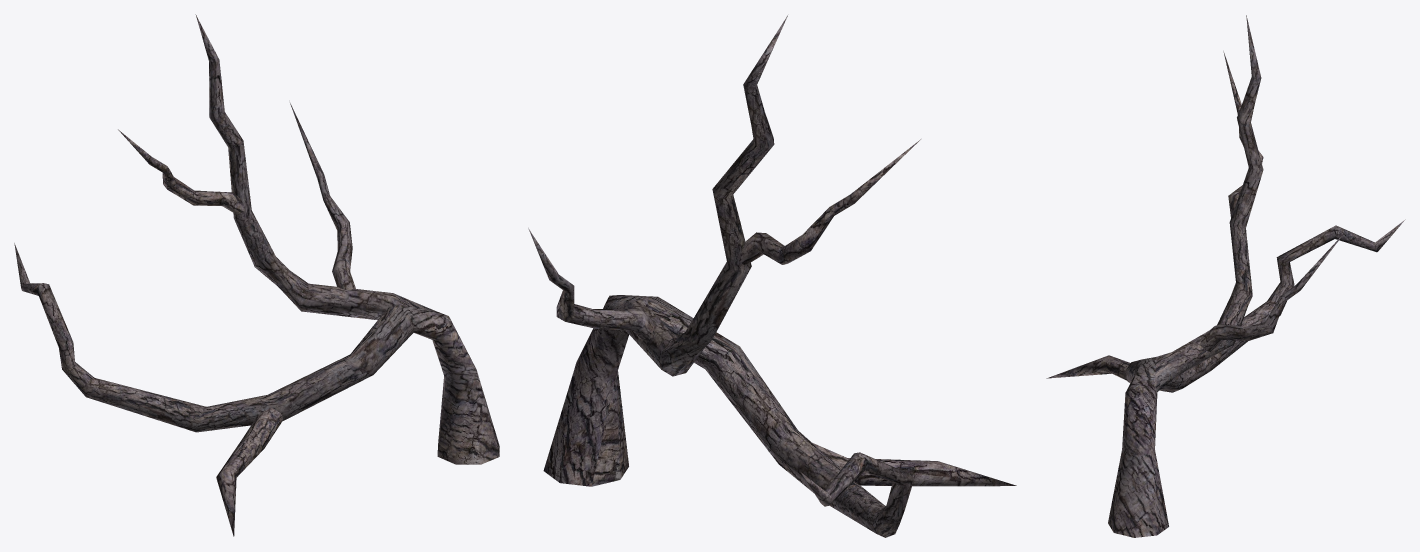
The model's file is crooked_tree_2.fbx.
3 renders of one model, left to right at view 1: azimuth 30°, elevation 25°; view 2: azimuth 150°, elevation 25°; view 3: azimuth 270°, elevation 25°, orthographic. The views are drawn at different scales.
Parts seen in each view (by area): view 1: crooked_tree_2; view 2: crooked_tree_2; view 3: crooked_tree_2.
Boxes of the visible parts, <box> form: crooked_tree_2: <box>14,14,499,536</box>; crooked_tree_2: <box>528,15,1016,537</box>; crooked_tree_2: <box>1046,15,1405,537</box>.
Size of the model in its own units: 9.35 by 11.12 by 8.75.
